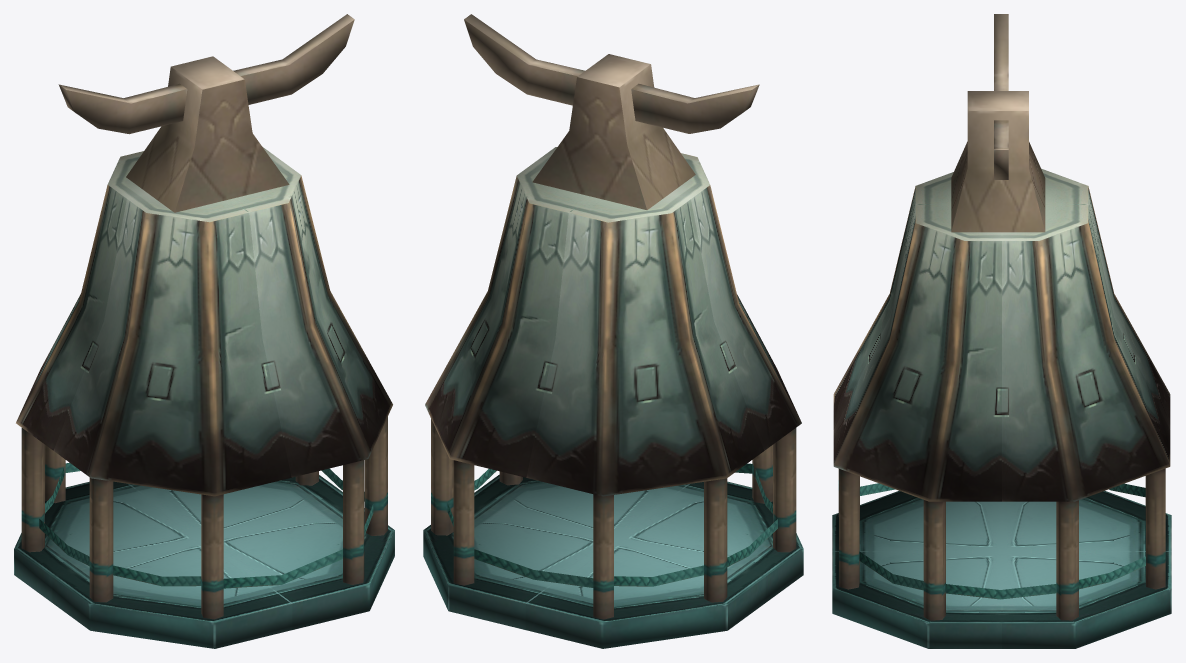
The model's file is Lty_xiaoshengjiang.FBX.
3 renders of one model, left to right at view 1: azimuth 30°, elevation 25°; view 2: azimuth 150°, elevation 25°; view 3: azimuth 270°, elevation 25°, orthographic. The views are drawn at different scales.
Visible parts, largest first — view 1: Lty_xiaoshengjiang; view 2: Lty_xiaoshengjiang; view 3: Lty_xiaoshengjiang.
Part boxes in pixels (x1,y1,x2,y2): Lty_xiaoshengjiang: (14, 14, 394, 648); Lty_xiaoshengjiang: (423, 14, 803, 648); Lty_xiaoshengjiang: (832, 14, 1171, 648).
Size of the model in its own units: 56.18 by 56.16 by 90.52.
